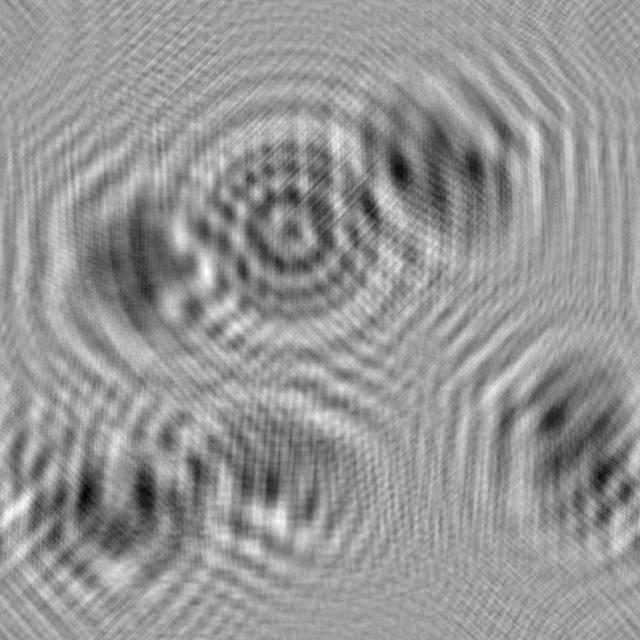K: (16, 131, 231, 394)
L: (144, 347, 421, 605)
M: (0, 372, 241, 640)
N: (333, 26, 576, 299), (448, 299, 640, 579)
O: (153, 91, 416, 371)
